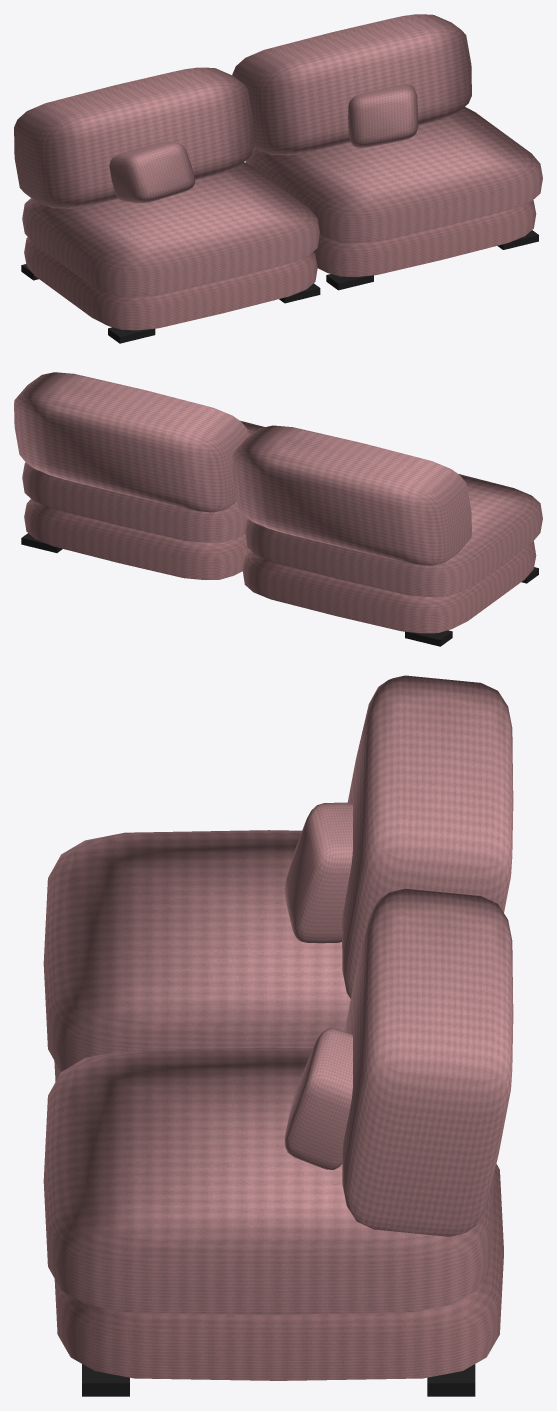
3 renders of one model, top to bottom at view 1: azimuth 30°, elevation 25°; view 2: azimuth 150°, elevation 25°; view 3: azimuth 270°, elevation 25°, orthographic. The views are drawn at different scales.
Visible parts, largest first — view 1: 3 left_seat_cushion, 4 right_seat_cushion, 5 left_backrest, 6 right_backrest, 1 left_base, 2 right_base, 7 left_throw_pillow, 8 right_throw_pillow, 11 front_mid_right_foot, 9 front_left_foot; view 2: 5 left_backrest, 6 right_backrest, 3 left_seat_cushion, 1 left_base, 2 right_base, 4 right_seat_cushion, 13 back_left_foot, 14 back_right_foot; view 3: 4 right_seat_cushion, 3 left_seat_cushion, 6 right_backrest, 5 left_backrest, 2 right_base, 7 left_throw_pillow, 8 right_throw_pillow, 14 back_right_foot, 12 front_right_foot.
Boxes of the visible parts, x1,y1,x2,y2 form: 3 left_seat_cushion: (22,162,319,297); 4 right_seat_cushion: (245,107,542,242); 5 left_backrest: (14,67,253,208); 6 right_backrest: (232,14,471,155); 1 left_base: (24,237,317,330); 2 right_base: (313,200,536,276); 7 left_throw_pillow: (109,141,194,203); 8 right_throw_pillow: (348,84,418,147); 11 front_mid_right_foot: (326,274,373,290); 9 front_left_foot: (108,327,155,343); 5 left_backrest: (232,425,471,565); 6 right_backrest: (14,372,248,512); 3 left_seat_cushion: (245,474,542,596); 1 left_base: (242,541,536,633); 2 right_base: (24,499,250,579); 4 right_seat_cushion: (22,420,264,542); 13 back_left_foot: (405,630,452,646); 14 back_right_foot: (21,533,62,552); 4 right_seat_cushion: (43,1047,494,1314); 3 left_seat_cushion: (43,830,350,1071); 6 right_backrest: (342,888,513,1236); 5 left_backrest: (342,675,513,998); 2 right_base: (54,1164,503,1380); 7 left_throw_pillow: (284,802,352,943); 8 right_throw_pillow: (284,1028,352,1169); 14 back_right_foot: (427,1364,475,1396); 12 front_right_foot: (82,1364,129,1396).
Bounding box in the file's own units: 2.85 × 1 × 1.3.
3 materials, 2 textured.
